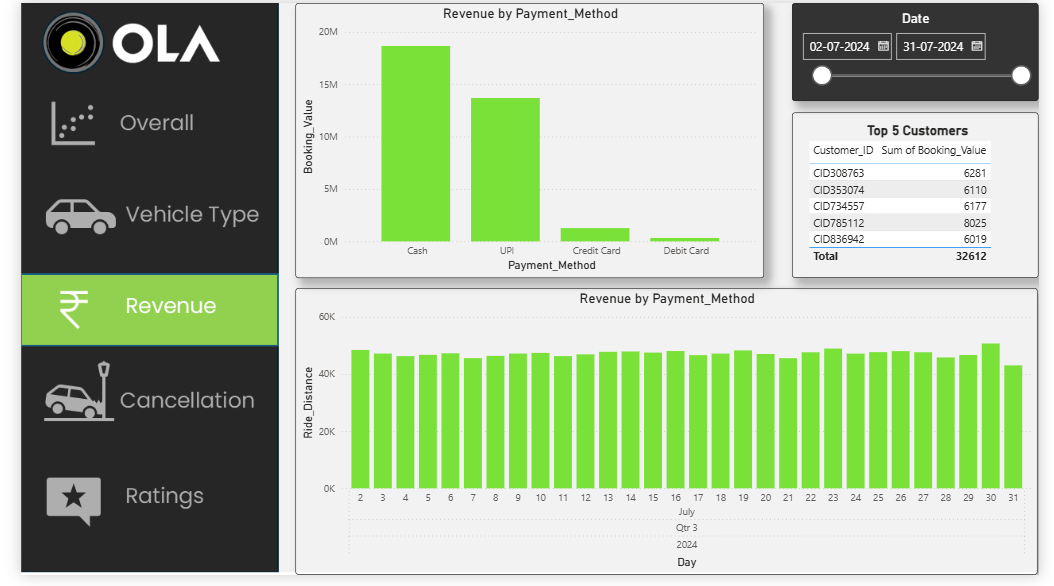

What the dashboard file says about the page in this screenshot:
{"tool":"powerbi","page":{"name":"Revenue","canvas":[1280,720],"ordinal":2},"visuals":[{"type":"actionButton","box":[0,345.2,324.5,90.7],"z":0},{"type":"actionButton","box":[0,210,324.5,98.6],"z":1000},{"type":"actionButton","box":[0,447,324.5,101.8],"z":2000},{"type":"actionButton","box":[0,579,324.5,85.9],"z":3000},{"type":"columnChart","title":"Revenue by Payment_Method","fields":{"Y":["Sum(July.Booking_Value)"],"Category":["July.Payment_Method"]},"box":[345.8,0,589.6,345.8],"z":4000},{"type":"columnChart","title":"Revenue by Payment_Method","fields":{"Y":["Sum(July.Ride_Distance)"],"Category":["July.Date.Variation.Date Hierarchy.Year","July.Date.Variation.Date Hierarchy.Quarter","July.Date.Variation.Date Hierarchy.Month","July.Date.Variation.Date Hierarchy.Day"]},"box":[345.8,359.1,933.6,360.9],"z":5000},{"type":"slicer","title":"Date","fields":{"Values":["July.Date"]},"box":[970,0,310,123.3],"z":6000},{"type":"tableEx","title":"Top 5 Customers","fields":{"Values":["July.Customer_ID","Sum(July.Booking_Value)"]},"box":[969.5,138,309.9,207.9],"z":7000}]}

Visuals, with their boxes in screenshot pixels (x1, y1, x2, y2), scaled from the page's 1280x720 canvas onto the 1054x586 screenshot:
actionButton: Rect(0, 281, 267, 355)
actionButton: Rect(0, 171, 267, 251)
actionButton: Rect(0, 364, 267, 447)
actionButton: Rect(0, 471, 267, 541)
"Revenue by Payment_Method" columnChart: Rect(285, 0, 770, 281)
"Revenue by Payment_Method" columnChart: Rect(285, 292, 1053, 585)
"Date" slicer: Rect(799, 0, 1053, 100)
"Top 5 Customers" tableEx: Rect(798, 112, 1053, 282)
